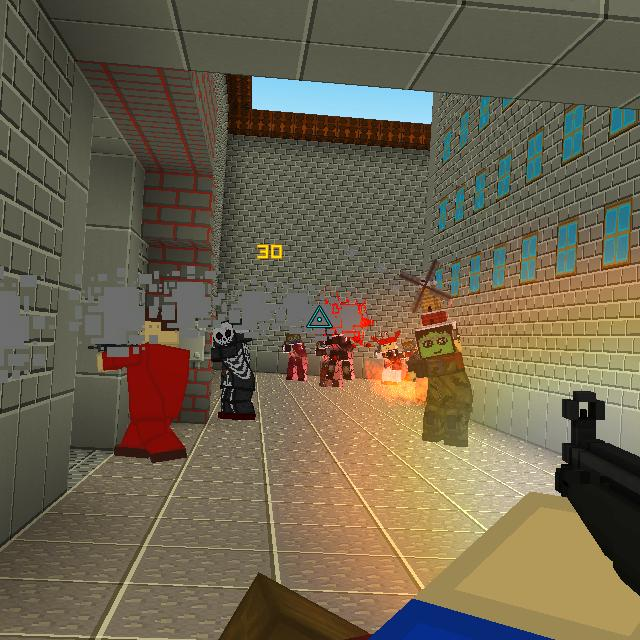enemy: (90, 302, 193, 462), (399, 256, 477, 449), (214, 314, 258, 422), (371, 330, 402, 384), (316, 333, 344, 388), (282, 331, 310, 384), (400, 340, 416, 382), (341, 336, 356, 380)
